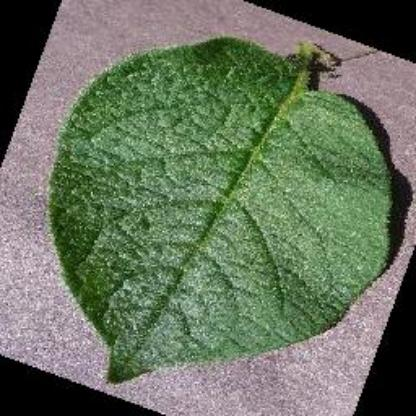Healthy-plant: (42, 14, 402, 399)
